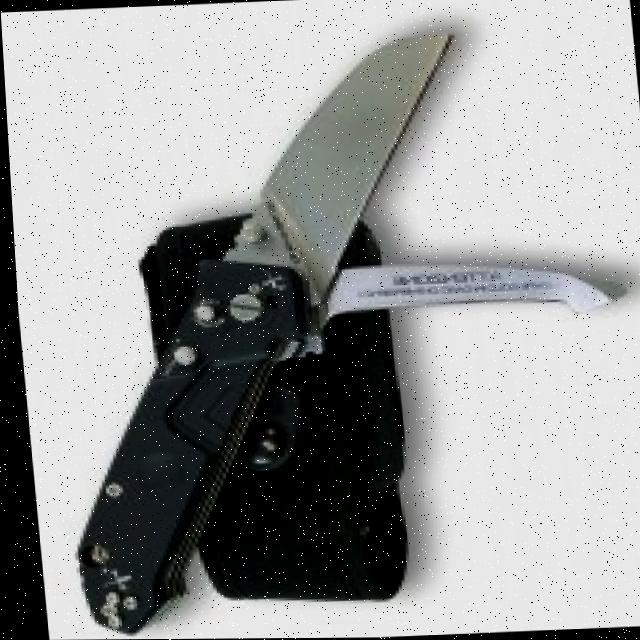knife: (25, 26, 510, 637)
